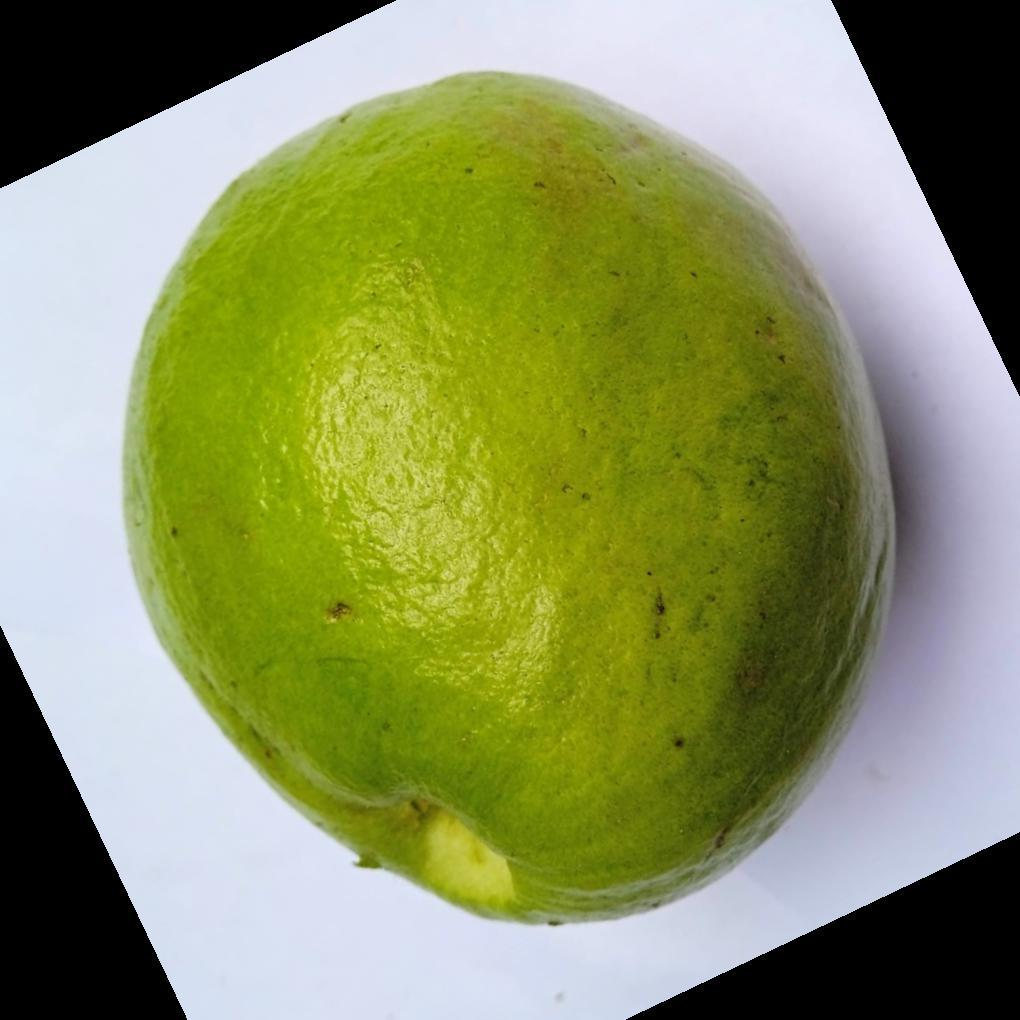FreshGuava: (119, 71, 897, 930)
